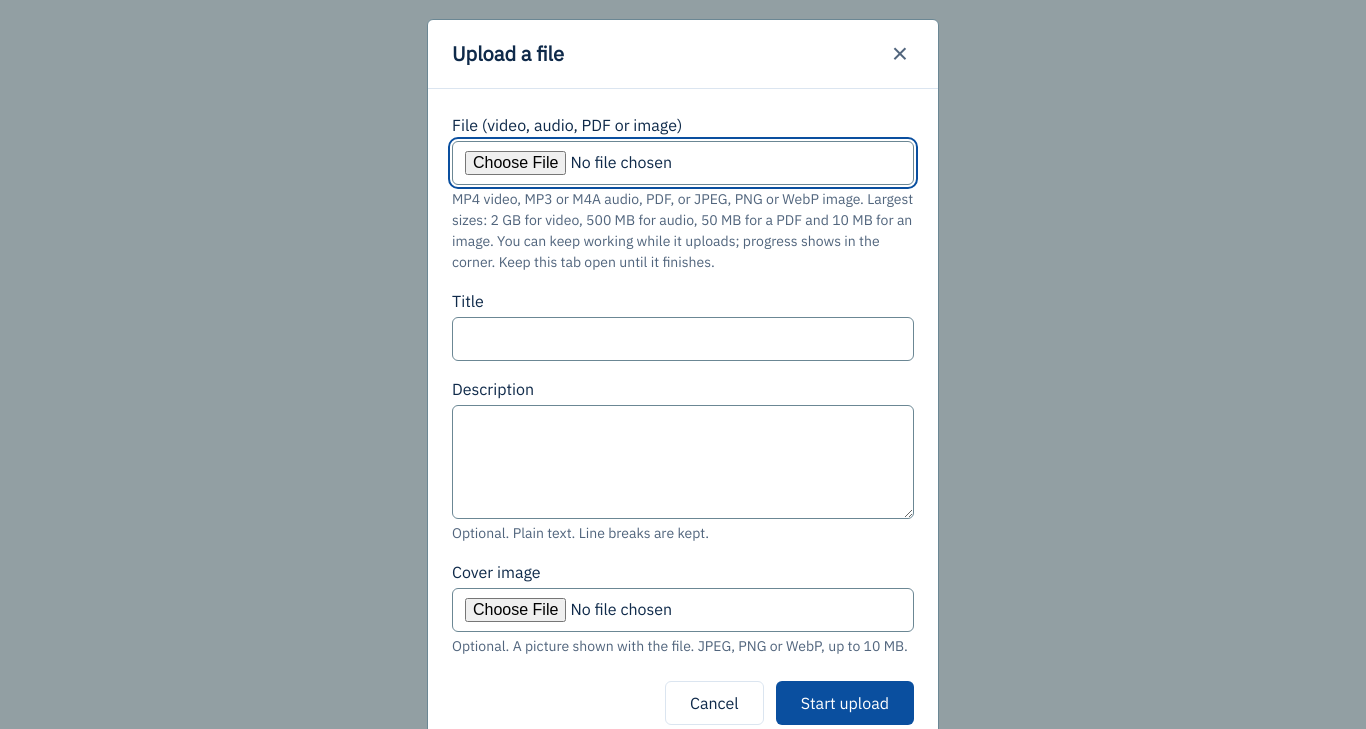
Test: AttachmentUploadDialog › asks for a file and a title before sending anything
This screenshot has width=1366, height=729.
Click the button "Start upload". click: (845, 702)
box: [776,680,914,724]
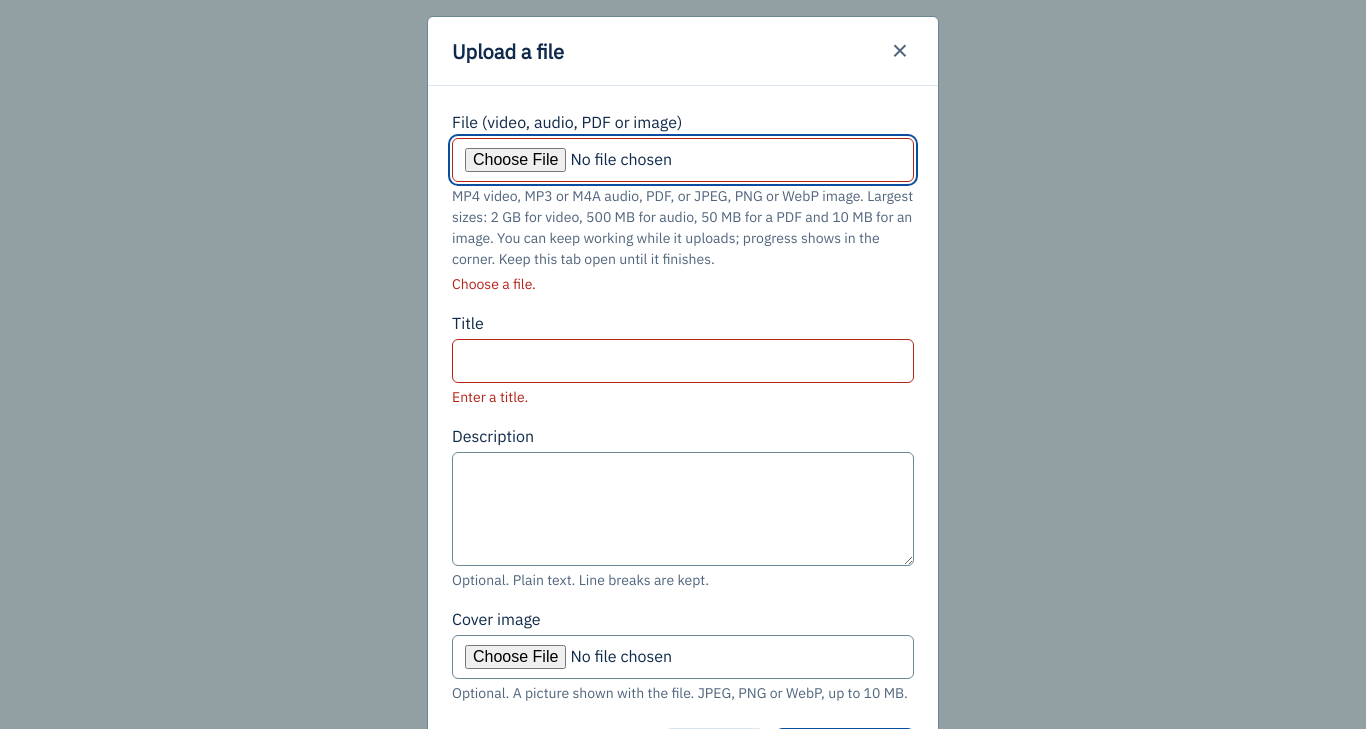
Now the text "Choose a file." is shown, box [452,275,536,293]
Now the text "Enter a title." is shown, box [452,388,528,406]
